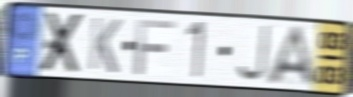1: (185, 20, 206, 81)
A: (264, 23, 320, 89)
F: (133, 18, 178, 77)
J: (233, 23, 271, 83)
K: (87, 15, 124, 76)
X: (38, 11, 87, 75)
